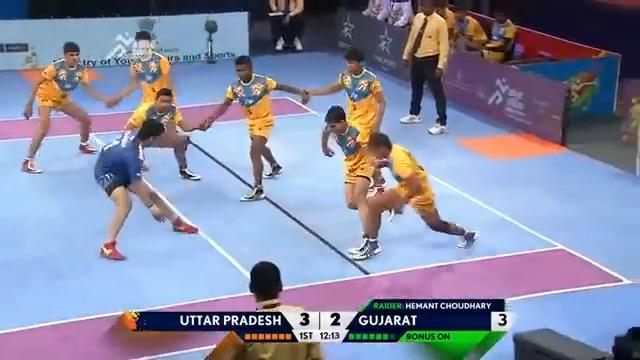Player: (300, 46, 389, 250), (345, 129, 478, 261), (199, 53, 309, 203), (19, 39, 114, 174), (114, 26, 171, 126)
Raider: (91, 116, 200, 262)
referee: (203, 260, 324, 358), (398, 1, 452, 135)
